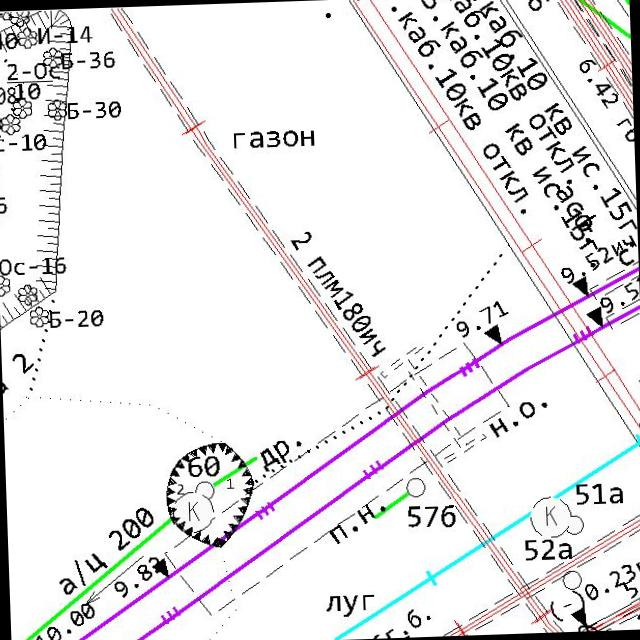asphalt: (554, 184, 598, 243)
bushes: (528, 494, 572, 538), (170, 491, 214, 534), (17, 24, 38, 50), (42, 46, 64, 69), (16, 283, 38, 306), (46, 98, 68, 120), (29, 305, 49, 328), (1, 112, 20, 136), (12, 98, 32, 120)
mark: (483, 322, 505, 348), (570, 274, 592, 300), (586, 304, 604, 330)
well: (193, 479, 216, 501), (405, 476, 427, 499), (563, 513, 585, 536), (560, 568, 582, 591)
